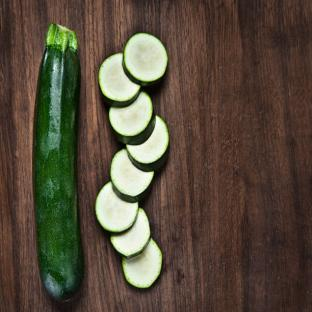Zucchini: (33, 23, 83, 300), (110, 92, 155, 145), (123, 33, 167, 86), (127, 116, 169, 171), (111, 149, 153, 202), (99, 53, 140, 107), (96, 182, 138, 232), (122, 238, 162, 287), (111, 209, 150, 258)
